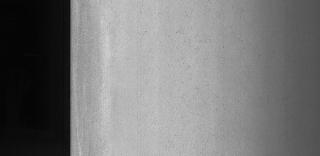silk spot: (167, 19, 237, 139)
